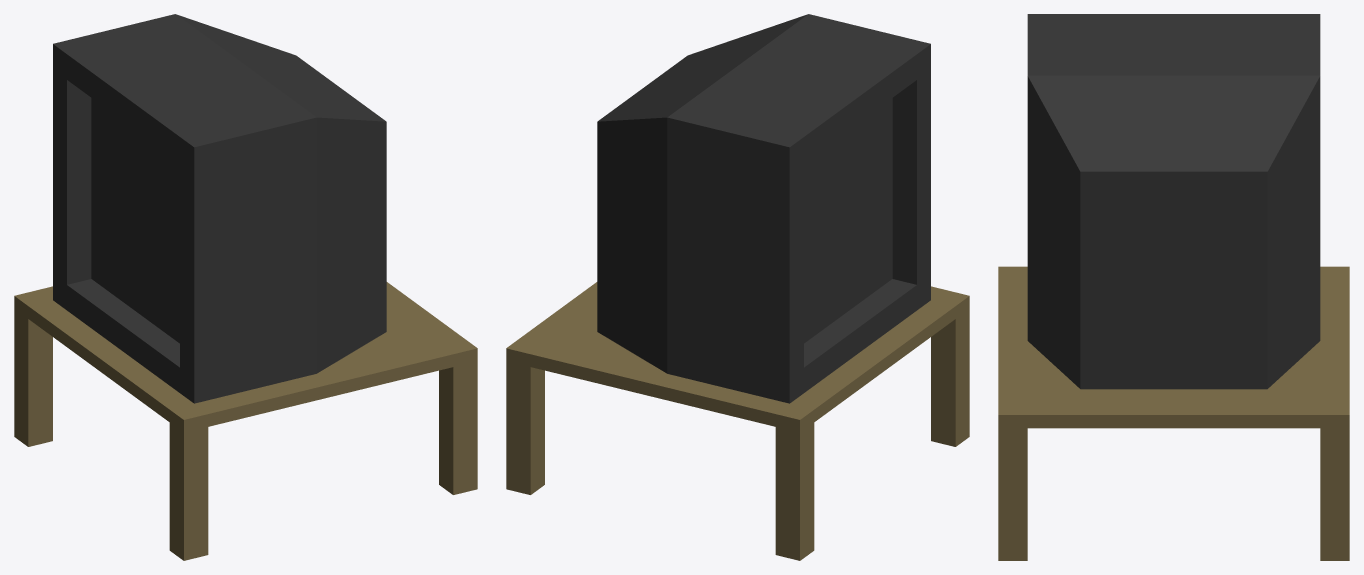
3 renders of one model, left to right at view 1: azimuth 30°, elevation 25°; view 2: azimuth 150°, elevation 25°; view 3: azimuth 270°, elevation 25°, orthographic. The views are drawn at different scales.
Visible parts, largest first — view 1: TV, Table; view 2: TV, Table; view 3: TV, Table.
Boxes of the visible parts, x1=… form: TV: x1=53, y1=14, x2=386, y2=403; Table: x1=14, y1=282, x2=477, y2=560; TV: x1=597, y1=14, x2=930, y2=403; Table: x1=506, y1=282, x2=969, y2=560; TV: x1=1027, y1=14, x2=1320, y2=389; Table: x1=998, y1=266, x2=1349, y2=560.
Size of the model in its own units: 120 by 155 by 120.
